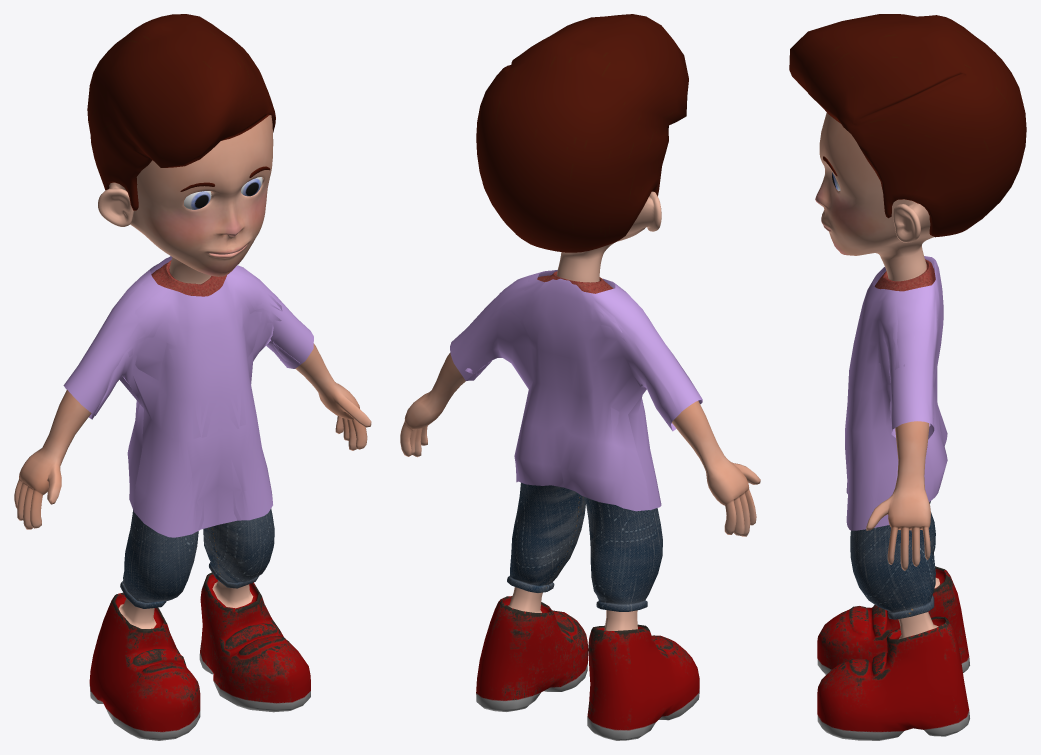
Rendered from Boy_One.glb.
3 views of the same model, side by side, from view 1: azimuth 30°, elevation 25°; view 2: azimuth 150°, elevation 25°; view 3: azimuth 270°, elevation 25° (orthographic).
Visible parts, largest first — view 1: character01_Tex_0.001, character01; view 2: character01_Tex_0.001, character01; view 3: character01_Tex_0.001, character01.
Boxes of the visible parts, bbox=[...] form: character01_Tex_0.001: bbox=[14, 14, 371, 740]; character01: bbox=[63, 256, 313, 537]; character01_Tex_0.001: bbox=[400, 14, 760, 740]; character01: bbox=[450, 269, 702, 511]; character01_Tex_0.001: bbox=[789, 14, 1026, 740]; character01: bbox=[845, 256, 947, 530].
Bounding box in the file's own units: 0.7022 × 1.33 × 0.4234.
2 materials, 1 textured.
